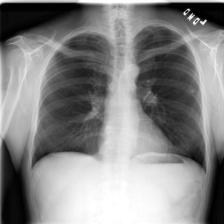normal: (27, 25, 209, 179)
